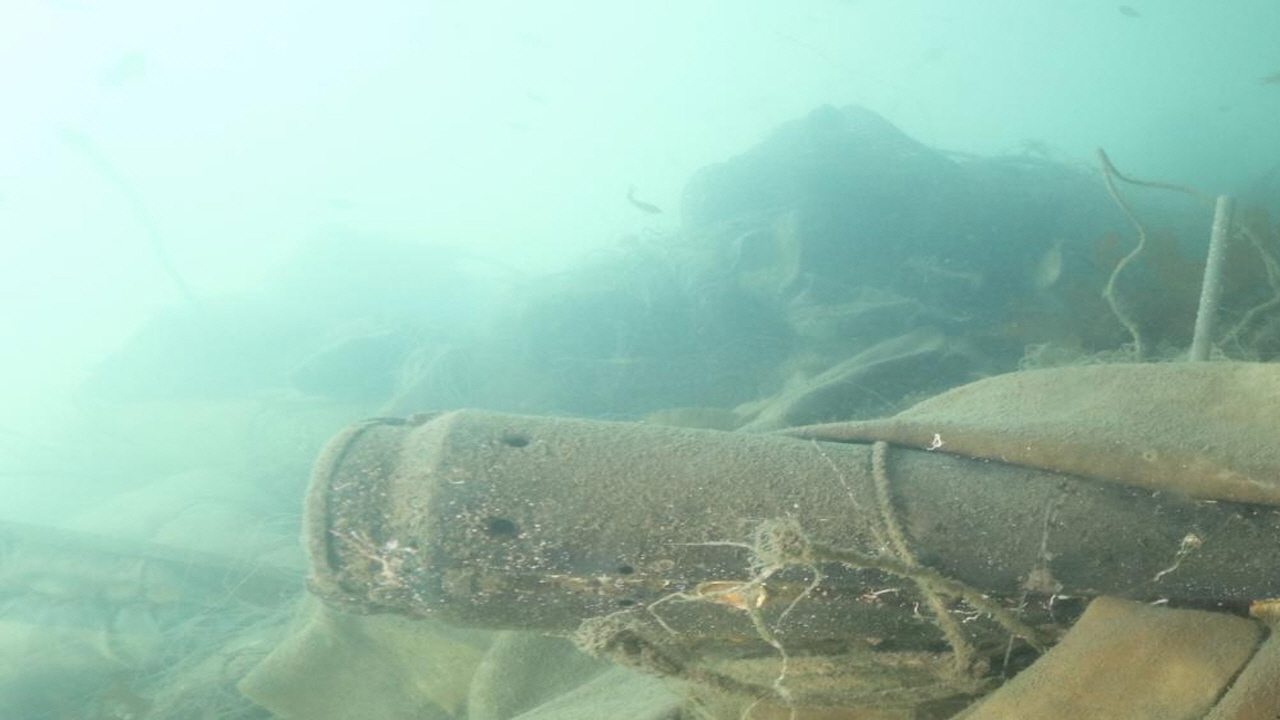bundle of ropes: (624, 440, 1052, 708), (1097, 147, 1280, 351)
eel fish trap: (304, 407, 1280, 648)
